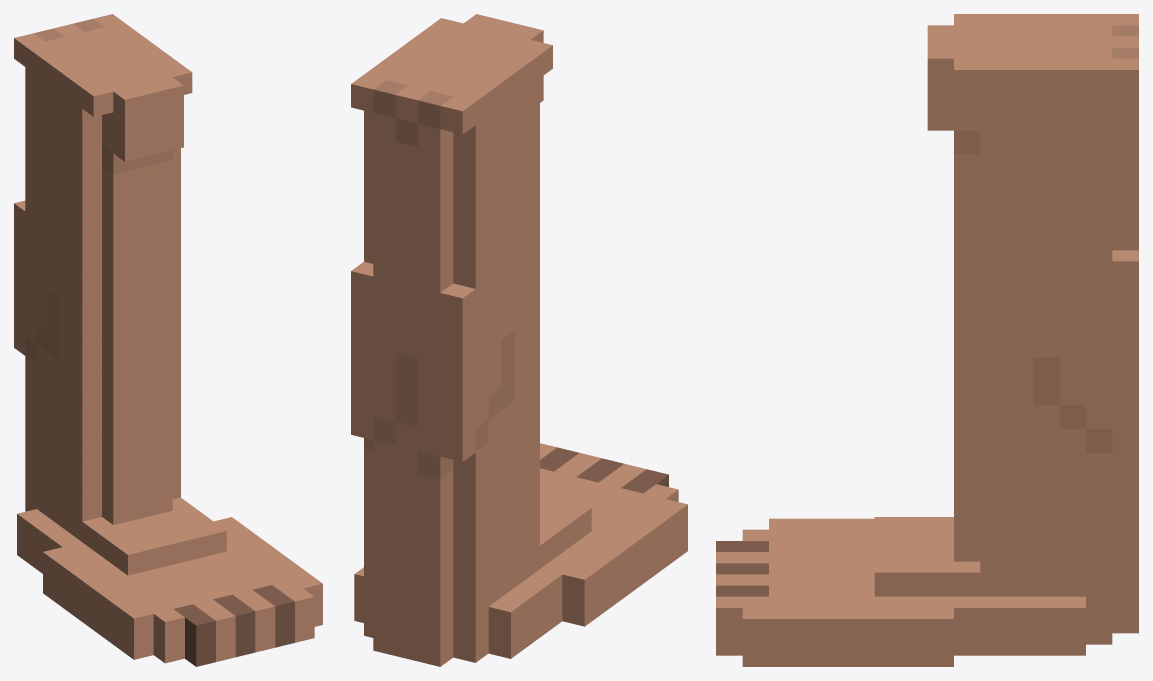
The model's file is Player0-7.obj.
3 views of the same model, side by side, from view 1: azimuth 30°, elevation 25°; view 2: azimuth 150°, elevation 25°; view 3: azimuth 270°, elevation 25° (orthographic). The views are drawn at different scales.
Size of the model in its own units: 0.9 by 2.4 by 1.6.
1 material, 1 textured.
